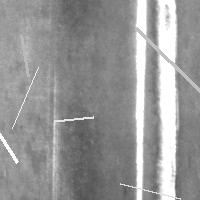scratches: (131, 23, 200, 100), (154, 1, 178, 199), (132, 1, 148, 199), (7, 62, 43, 133), (49, 73, 62, 198), (115, 178, 185, 200), (0, 118, 22, 167), (16, 30, 33, 81), (49, 112, 98, 126)
